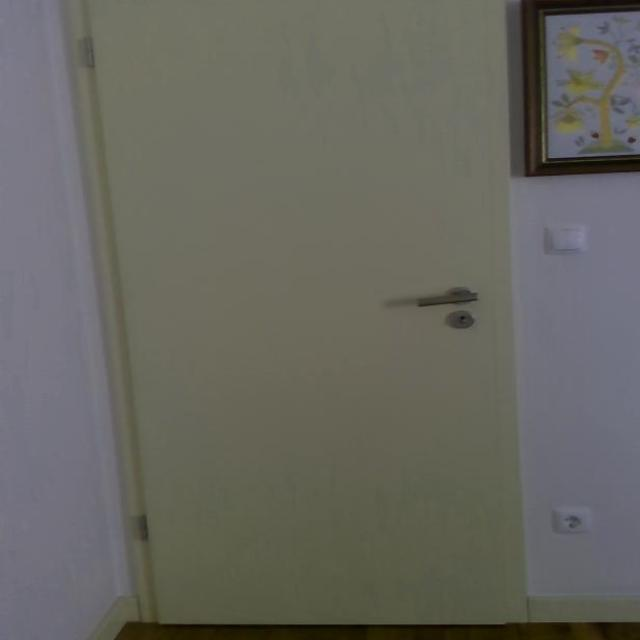door: (75, 0, 529, 627)
